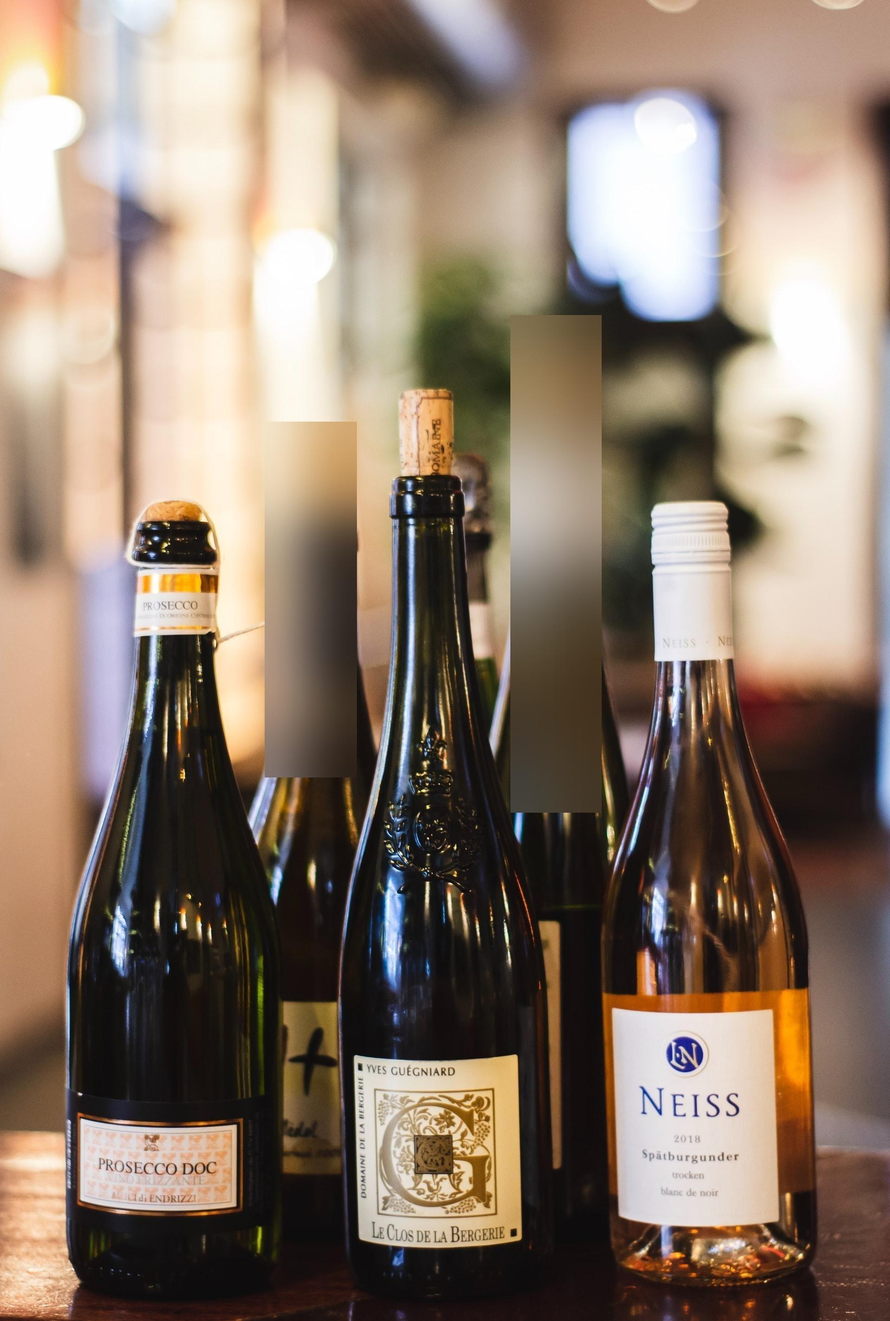bottle-glass: (587, 495, 831, 1305), (52, 499, 292, 1307), (331, 468, 554, 1304)
